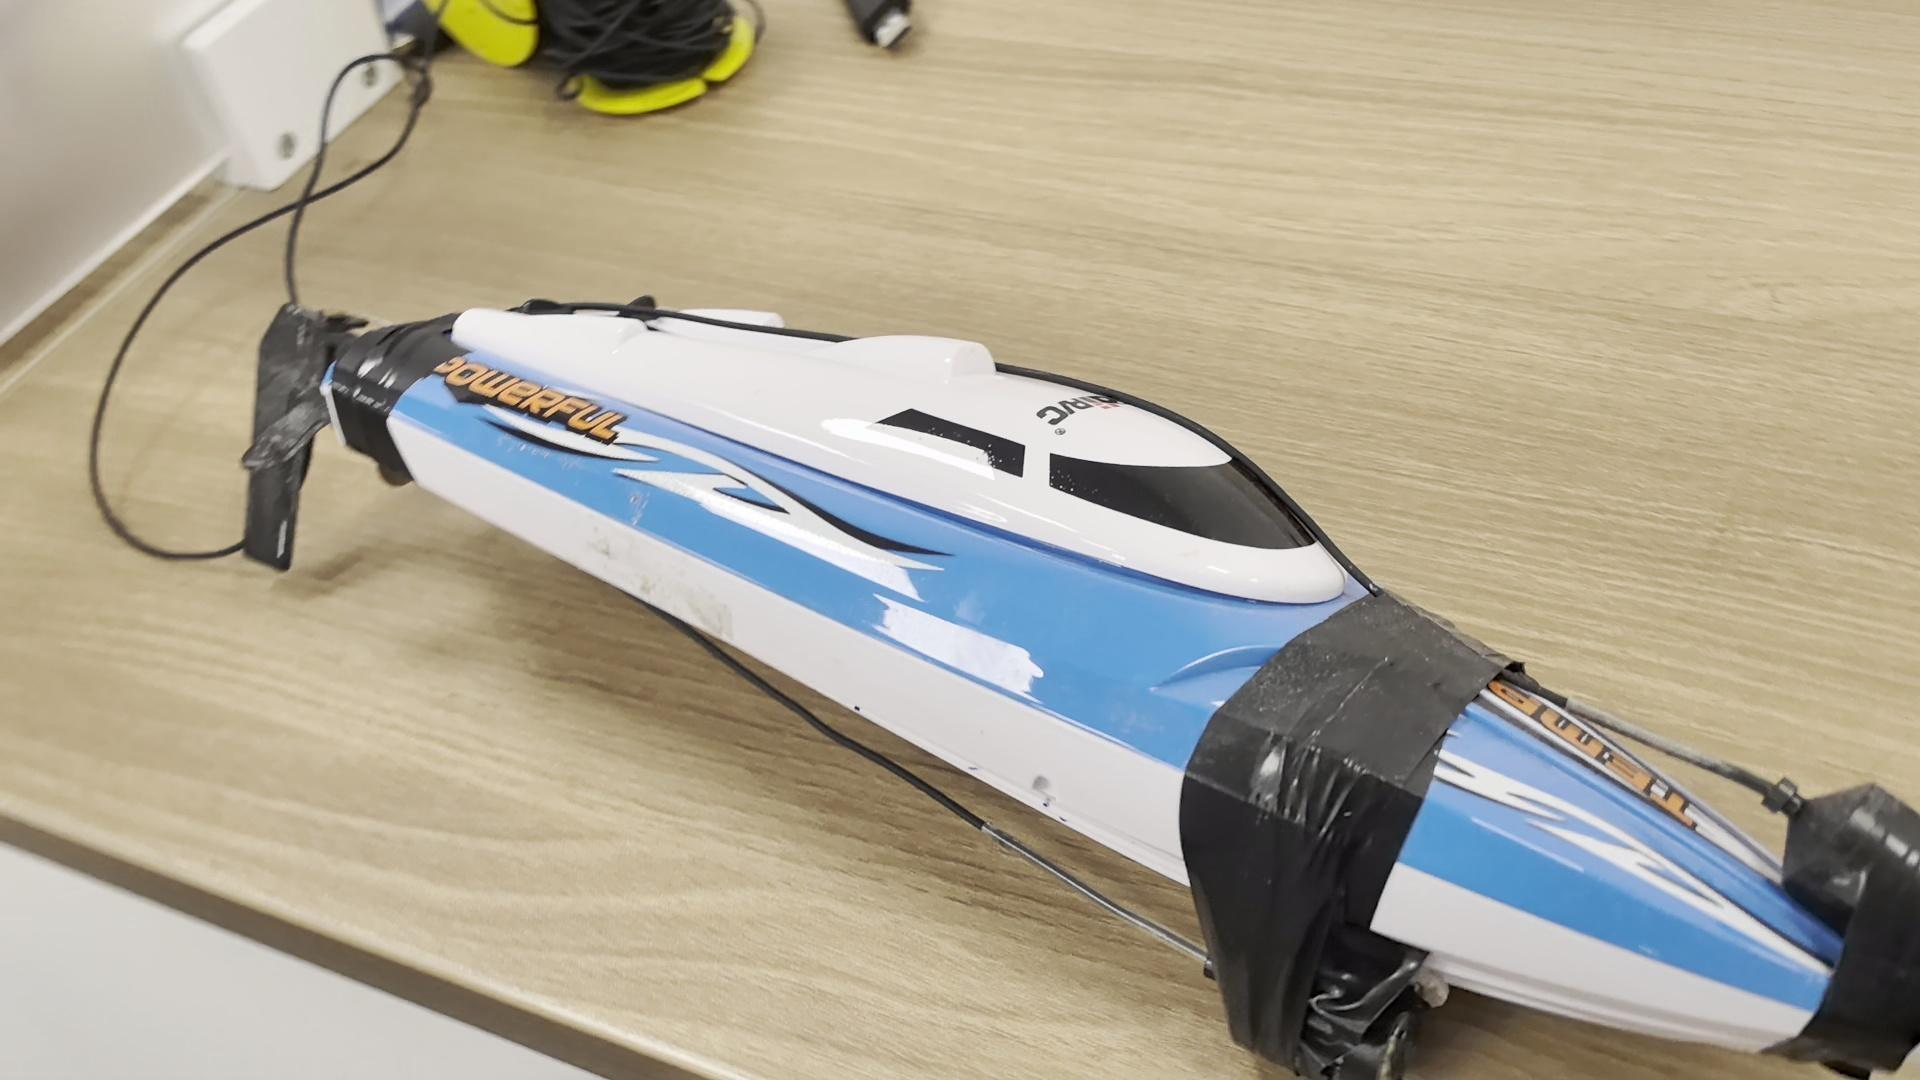Boat: (299, 287, 1904, 1072)
